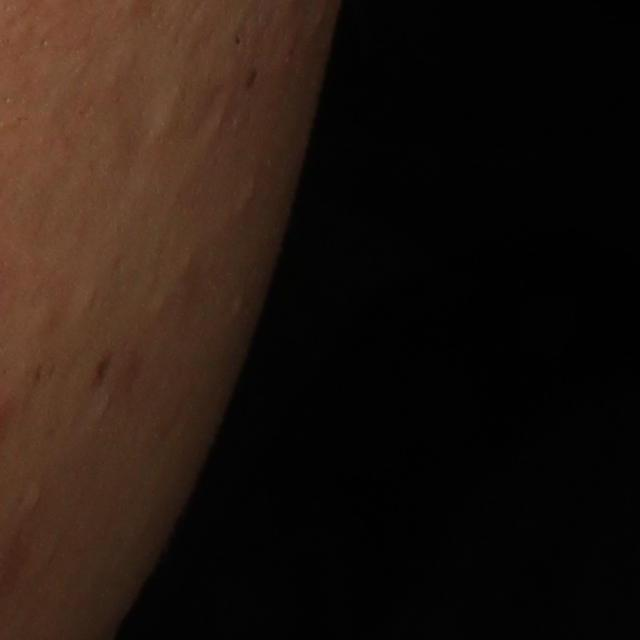nevus: (88, 346, 115, 386)
